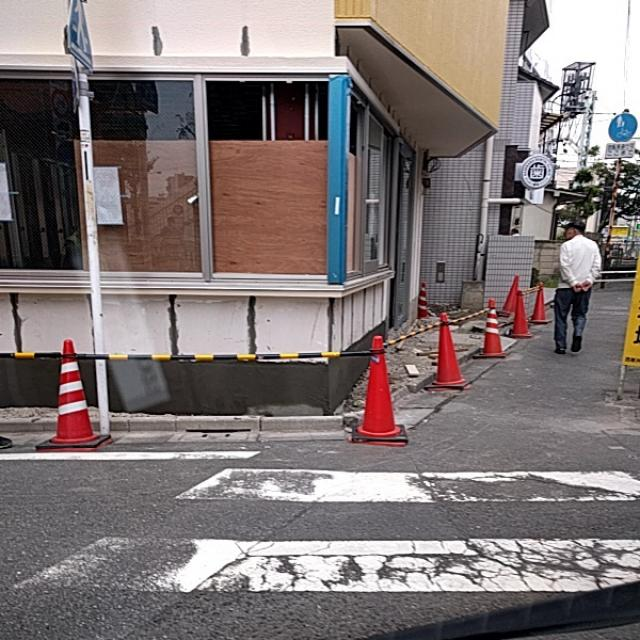pothole: (197, 526, 491, 612)
